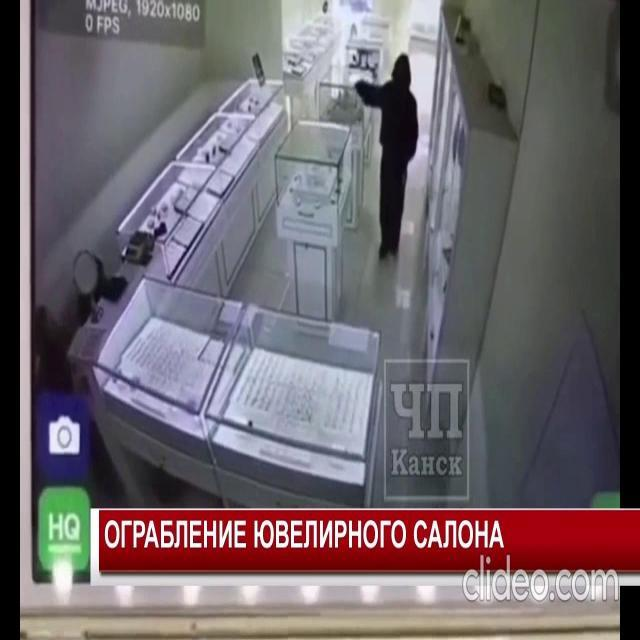pistol: (347, 74, 375, 108)
